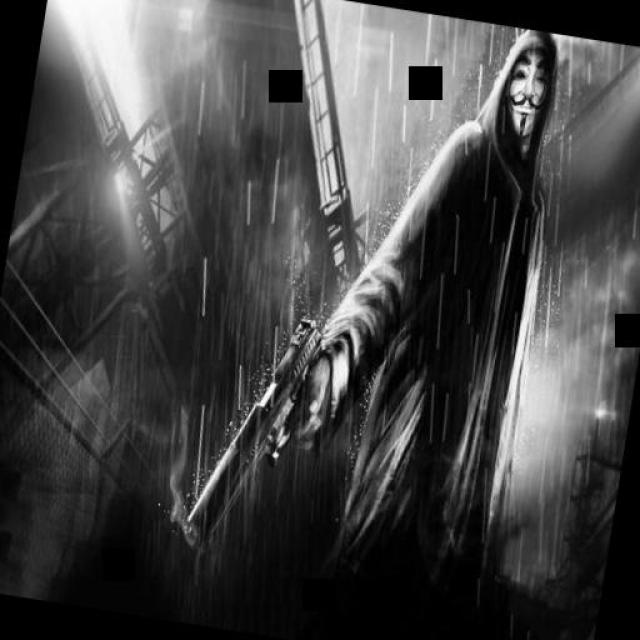gun: (178, 298, 332, 548)
